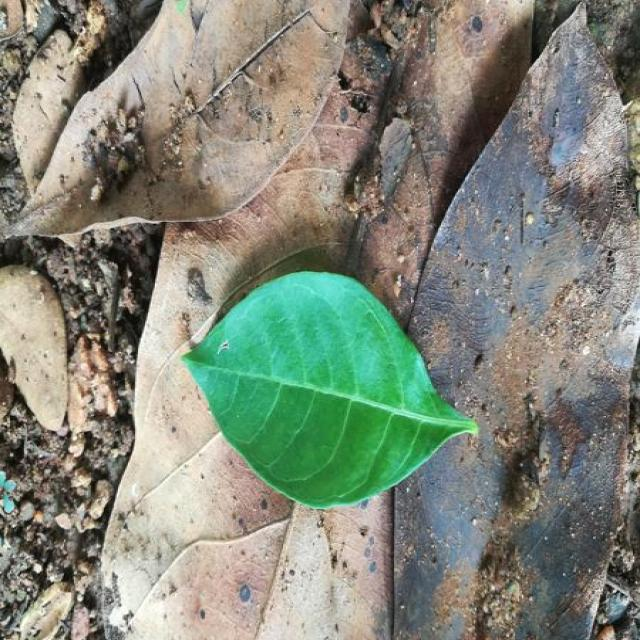henna: (182, 271, 478, 509)
